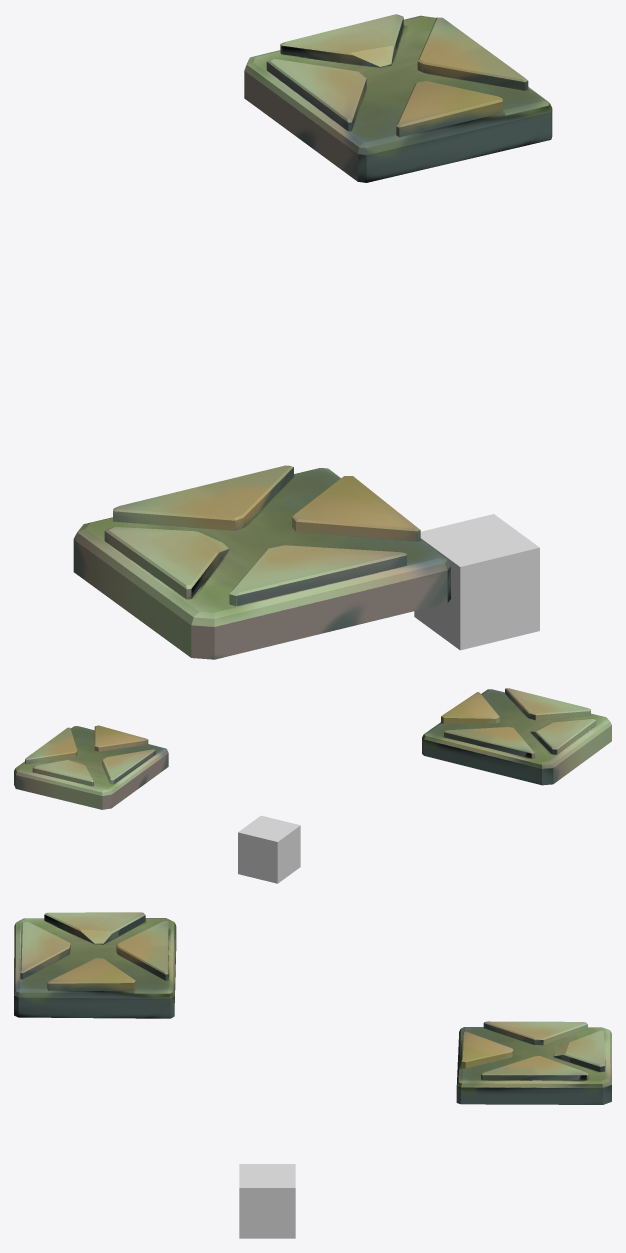
The model's file is home-floor007.fbx.
3 views of the same model, one above another, from view 1: azimuth 30°, elevation 25°; view 2: azimuth 150°, elevation 25°; view 3: azimuth 270°, elevation 25° (orthographic). The views are drawn at different scales.
Visible parts, largest first — view 1: Plane.008, Plane.002, home-floor007; view 2: Plane.008, Plane.002, home-floor007; view 3: Plane.008, Plane.002, home-floor007.
Part boxes in pixels (box(x1,y1,x2,y2)): Plane.008: box(73, 465, 450, 659); Plane.002: box(244, 14, 552, 182); home-floor007: box(414, 514, 539, 650); Plane.008: box(422, 688, 611, 785); Plane.002: box(14, 725, 168, 809); home-floor007: box(238, 815, 300, 883); Plane.008: box(14, 912, 176, 1018); Plane.002: box(456, 1021, 611, 1104); home-floor007: box(239, 1164, 295, 1238).
Size of the model in its own units: 742 by 356 by 871.
